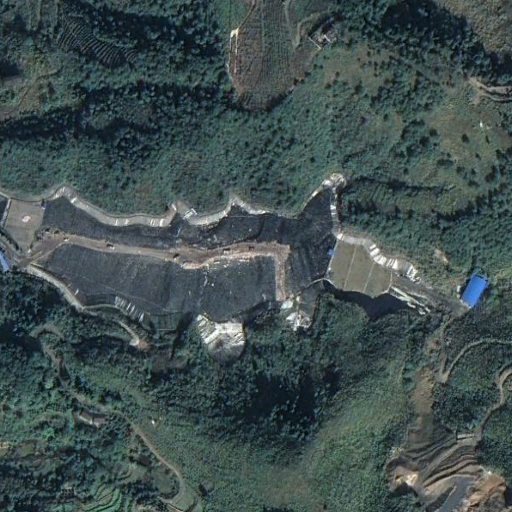lf: (29, 187, 336, 331)
